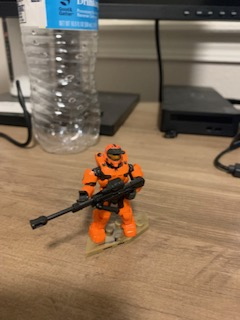spartan: (77, 144, 145, 244)
